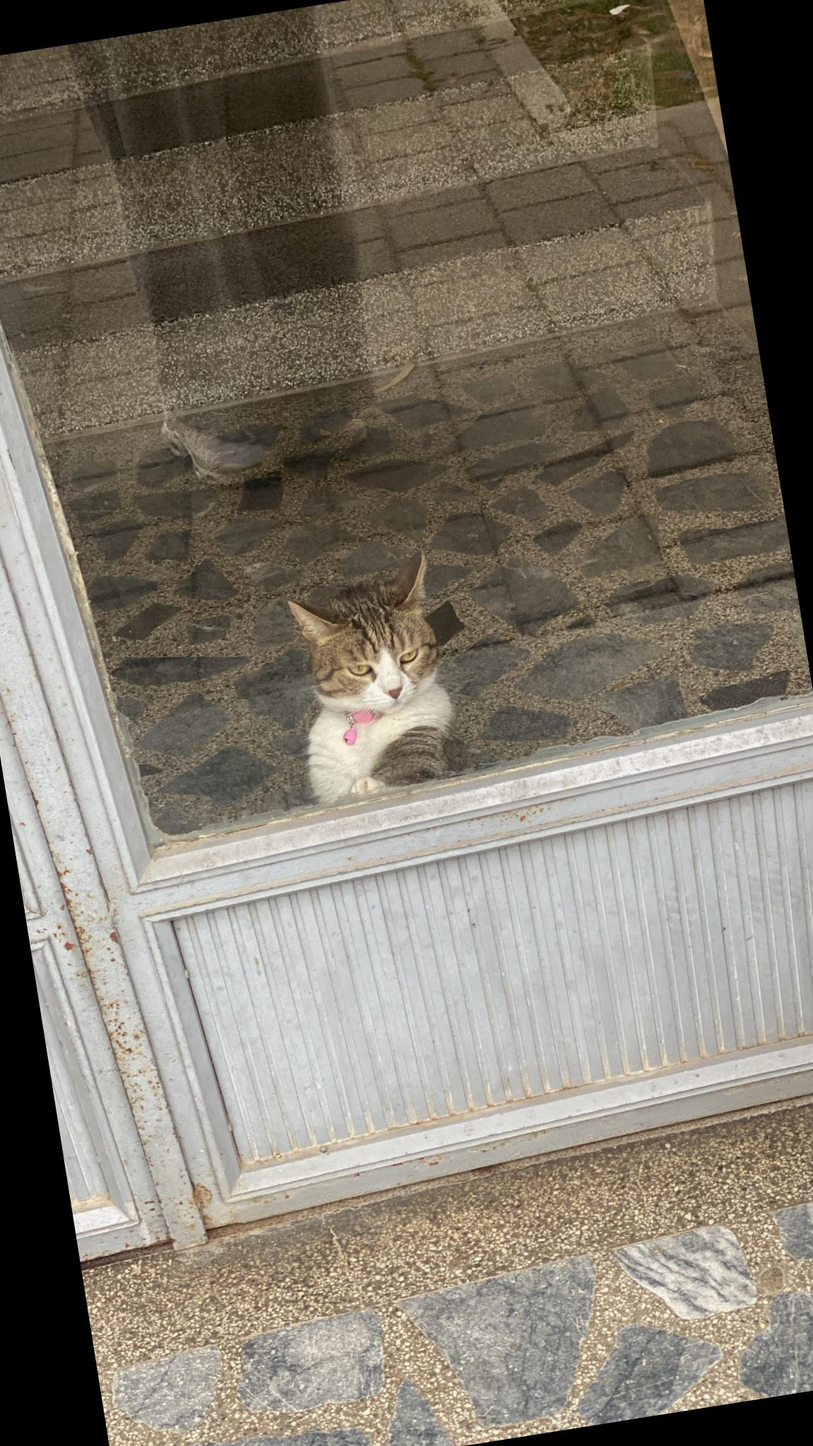macka: (279, 549, 463, 801)
